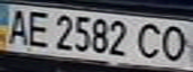2: (48, 11, 75, 52), (106, 17, 133, 57)
5: (69, 12, 93, 53)
8: (90, 16, 112, 55)
A: (0, 6, 33, 45)
C: (133, 20, 166, 61)
E: (21, 8, 51, 48)
O: (154, 22, 193, 63)
